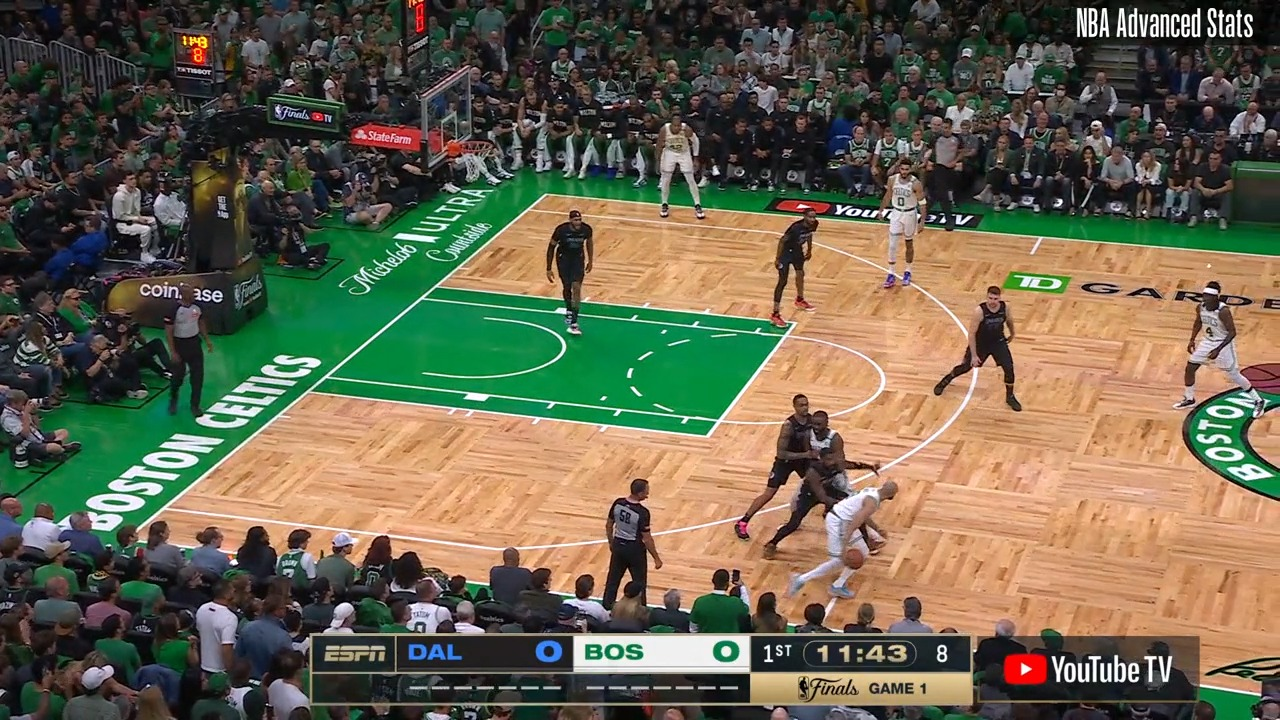basketball: (841, 546, 866, 572)
